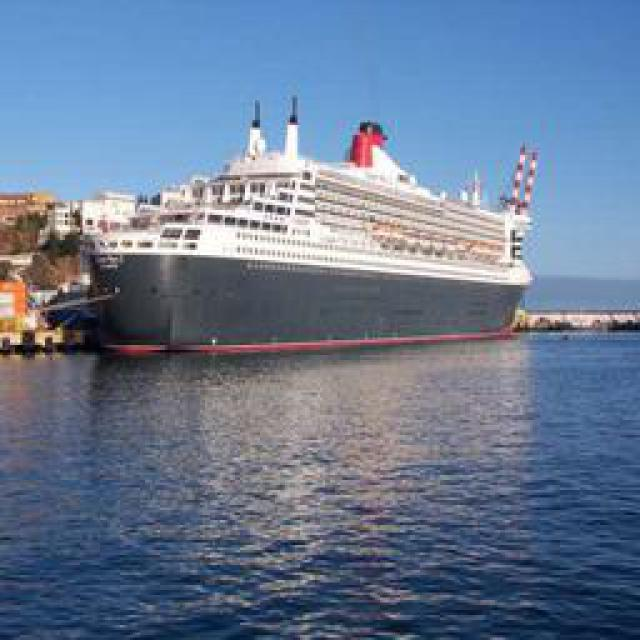Ship: (70, 99, 535, 361)
